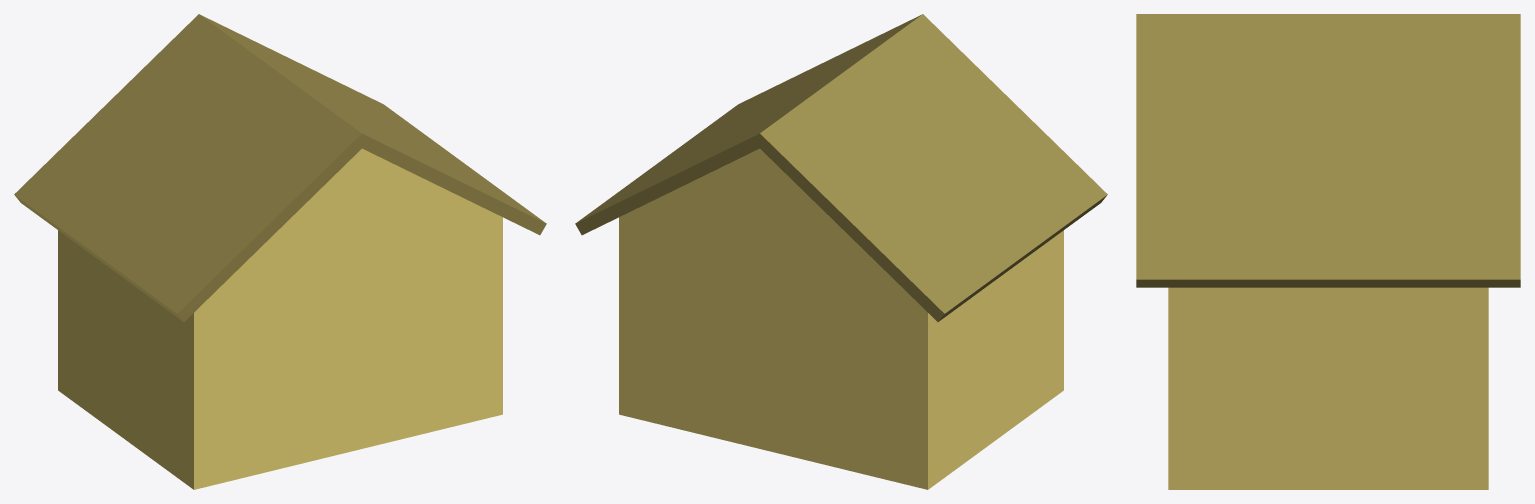
The model's file is result.glb.
3 renders of one model, left to right at view 1: azimuth 30°, elevation 25°; view 2: azimuth 150°, elevation 25°; view 3: azimuth 270°, elevation 25°, orthographic. The views are drawn at different scales.
Visible parts, largest first — view 1: fae8a2e0-72b9-438c-94d1-933060e996a0__undefined, fa465c0d-80d1-4016-af72-b468b6c8c497__undefined (×2); view 2: fae8a2e0-72b9-438c-94d1-933060e996a0__undefined, fa465c0d-80d1-4016-af72-b468b6c8c497__undefined (×2); view 3: fa465c0d-80d1-4016-af72-b468b6c8c497__undefined, fae8a2e0-72b9-438c-94d1-933060e996a0__undefined.
Part boxes in pixels (box(x1,y1,x2,y2)): fae8a2e0-72b9-438c-94d1-933060e996a0__undefined: box(58, 148, 502, 489); fa465c0d-80d1-4016-af72-b468b6c8c497__undefined (×2): box(14, 14, 546, 321); fae8a2e0-72b9-438c-94d1-933060e996a0__undefined: box(619, 148, 1063, 489); fa465c0d-80d1-4016-af72-b468b6c8c497__undefined (×2): box(575, 14, 1107, 321); fa465c0d-80d1-4016-af72-b468b6c8c497__undefined: box(1136, 14, 1520, 287); fae8a2e0-72b9-438c-94d1-933060e996a0__undefined: box(1168, 287, 1488, 489).
Size of the model in its own units: 785 by 667 by 600.
